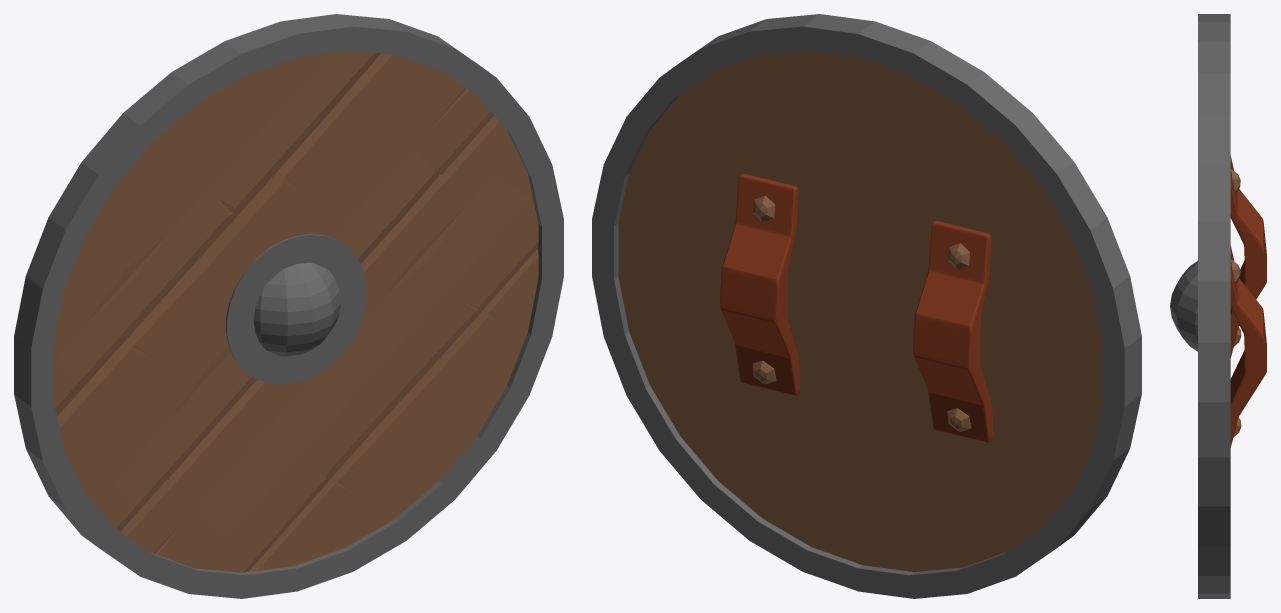
File: Shield_2.fbx
3 views of the same model, side by side, from view 1: azimuth 30°, elevation 25°; view 2: azimuth 150°, elevation 25°; view 3: azimuth 270°, elevation 25° (orthographic). The views are drawn at different scales.
Visible parts, largest first — view 1: Cube.004; view 2: Cube.004; view 3: Cube.004.
Part boxes in pixels (x1,y1,x2,y2): Cube.004: (14,14,563,598); Cube.004: (592,14,1141,598); Cube.004: (1170,14,1266,598).
Size of the model in its own units: 75 by 75 by 12.44.
